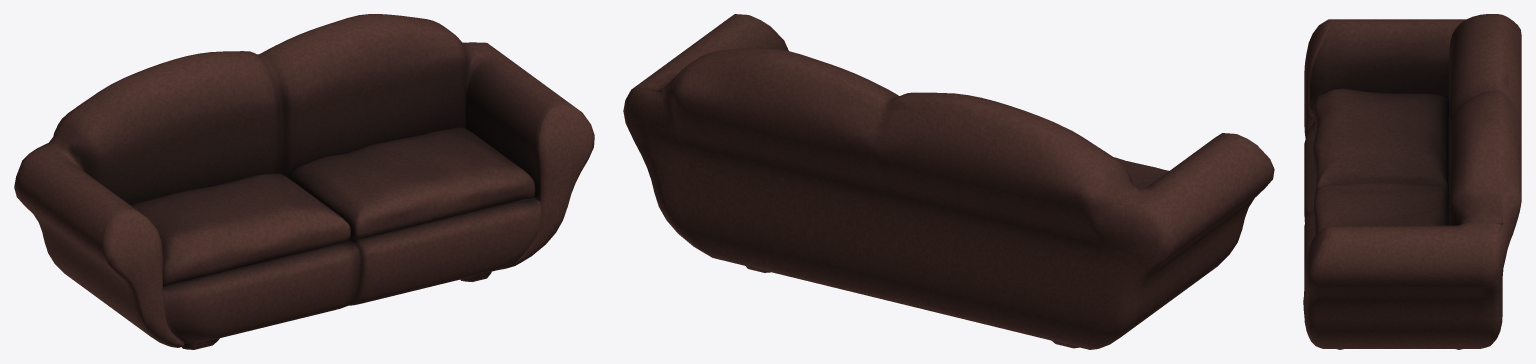
File: Couch.fbx
The picture shows the model from 3 angles, left to right: view 1: azimuth 30°, elevation 25°; view 2: azimuth 150°, elevation 25°; view 3: azimuth 270°, elevation 25°; orthographic projection. The views are drawn at different scales.
Parts seen in each view (by area): view 1: pCube1; view 2: pCube1; view 3: pCube1.
Part boxes in pixels (bbox=[...]): pCube1: bbox=[14, 14, 594, 349]; pCube1: bbox=[623, 14, 1274, 349]; pCube1: bbox=[1303, 14, 1521, 349].
Size of the model in its own units: 9.17 by 3.82 by 3.64.
